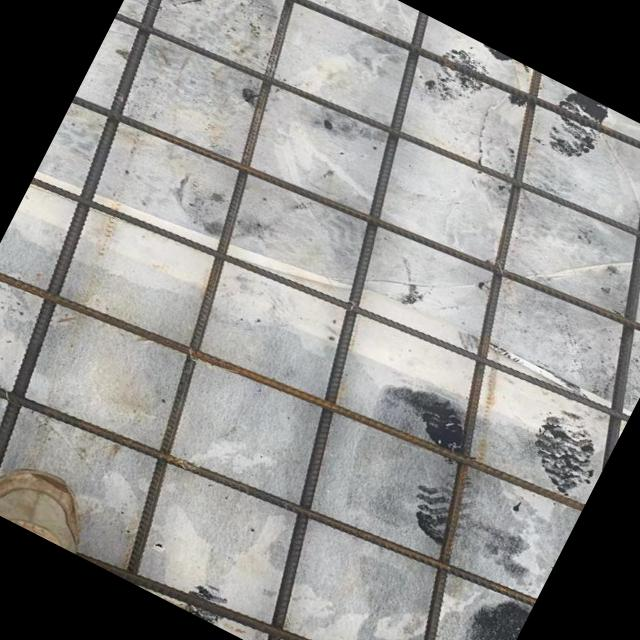ribbed bar: (129, 11, 566, 640), (6, 0, 424, 583), (257, 68, 640, 640), (30, 124, 630, 475), (0, 212, 585, 566), (70, 44, 640, 394), (0, 306, 537, 640), (114, 0, 640, 310), (0, 0, 275, 507), (152, 0, 640, 235), (71, 507, 482, 640), (504, 129, 640, 465)
